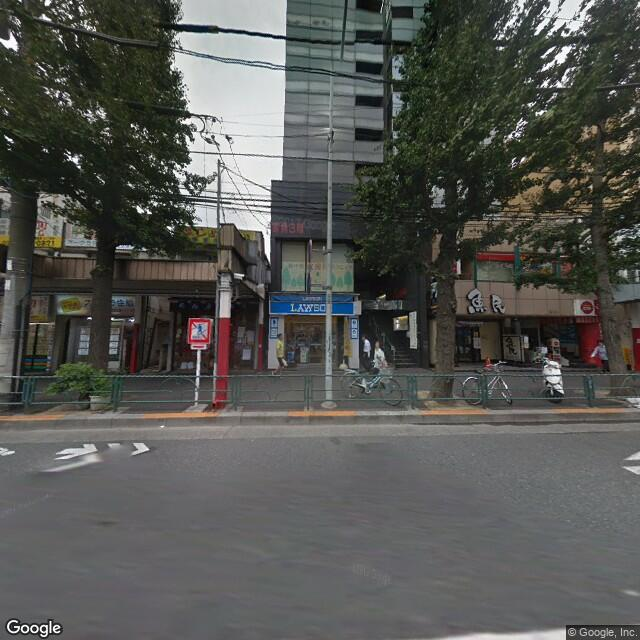lawson: (270, 295, 341, 318)
